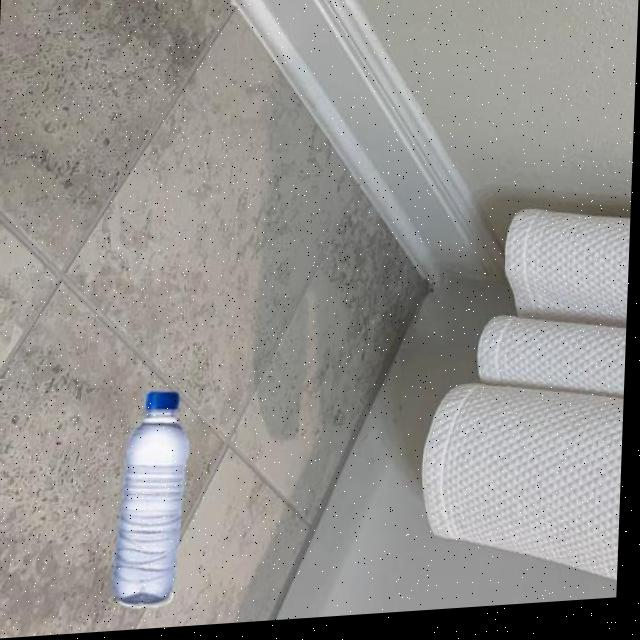bottle: (114, 390, 196, 613)
